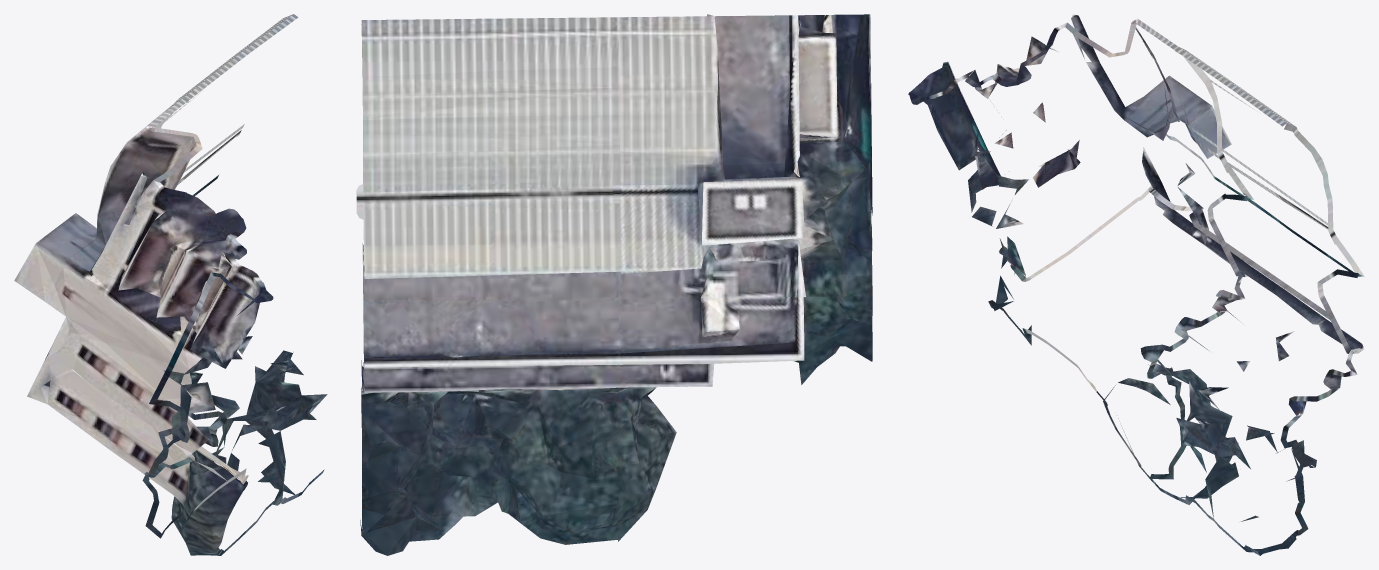
The picture shows the model from 3 angles, left to right: view 1: azimuth 30°, elevation 25°; view 2: azimuth 150°, elevation 25°; view 3: azimuth 270°, elevation 25°; orthographic projection. The views are drawn at different scales.
Bounding box in the file's own units: 31.26 × 39.82 × 37.65.
Materials: 2 (2 with a texture image).
